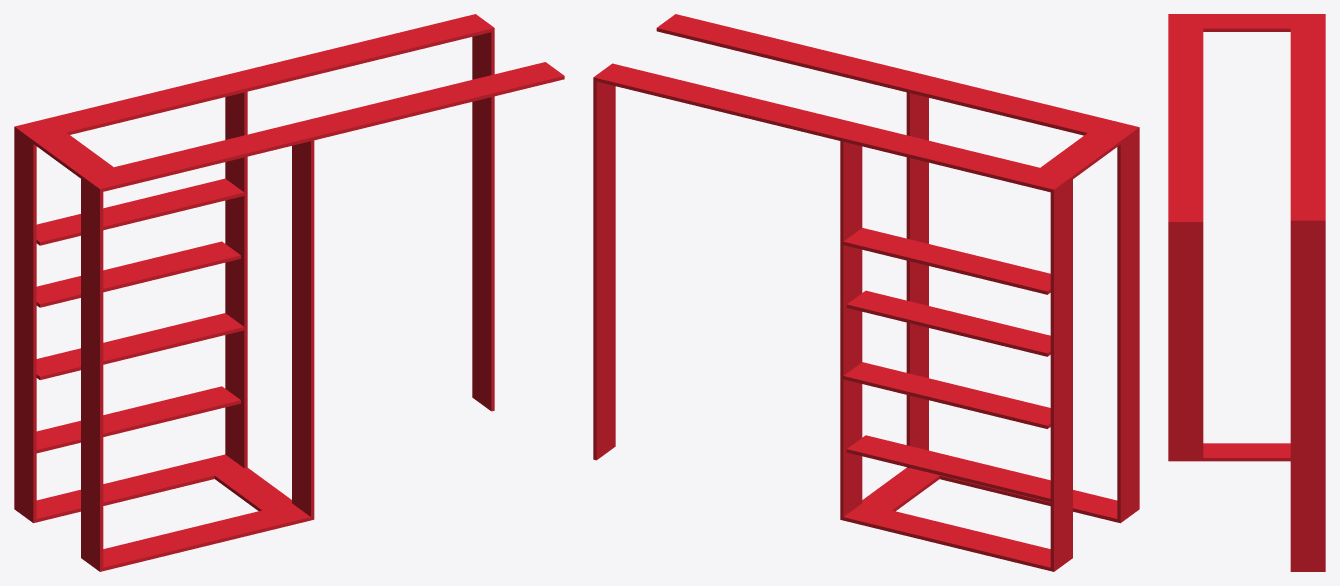
The model's file is tinker.obj.
3 renders of one model, left to right at view 1: azimuth 30°, elevation 25°; view 2: azimuth 150°, elevation 25°; view 3: azimuth 270°, elevation 25°, orthographic. The views are drawn at different scales.
Visible parts, largest first — view 1: obj_0; view 2: obj_0; view 3: obj_0.
Boxes of the visible parts, <box> form: obj_0: <box>14,14,564,571</box>; obj_0: <box>593,14,1139,571</box>; obj_0: <box>1168,14,1325,571</box>.
Bounding box in the file's own units: 141 × 111 × 45.
